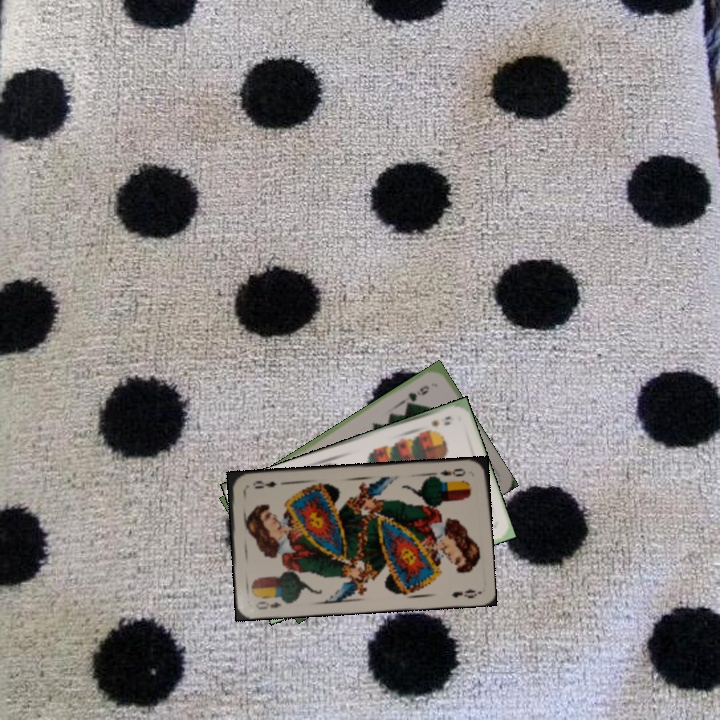EO: (252, 597, 284, 612), (436, 465, 468, 479)
G9: (404, 381, 432, 403)
S9: (427, 412, 454, 429)
